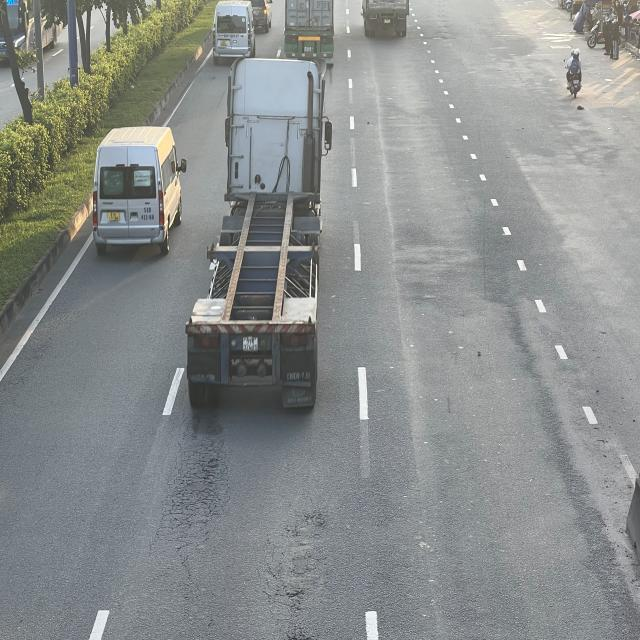container: (190, 61, 334, 414), (283, 0, 336, 60)
van: (94, 128, 190, 256), (212, 0, 254, 59)
